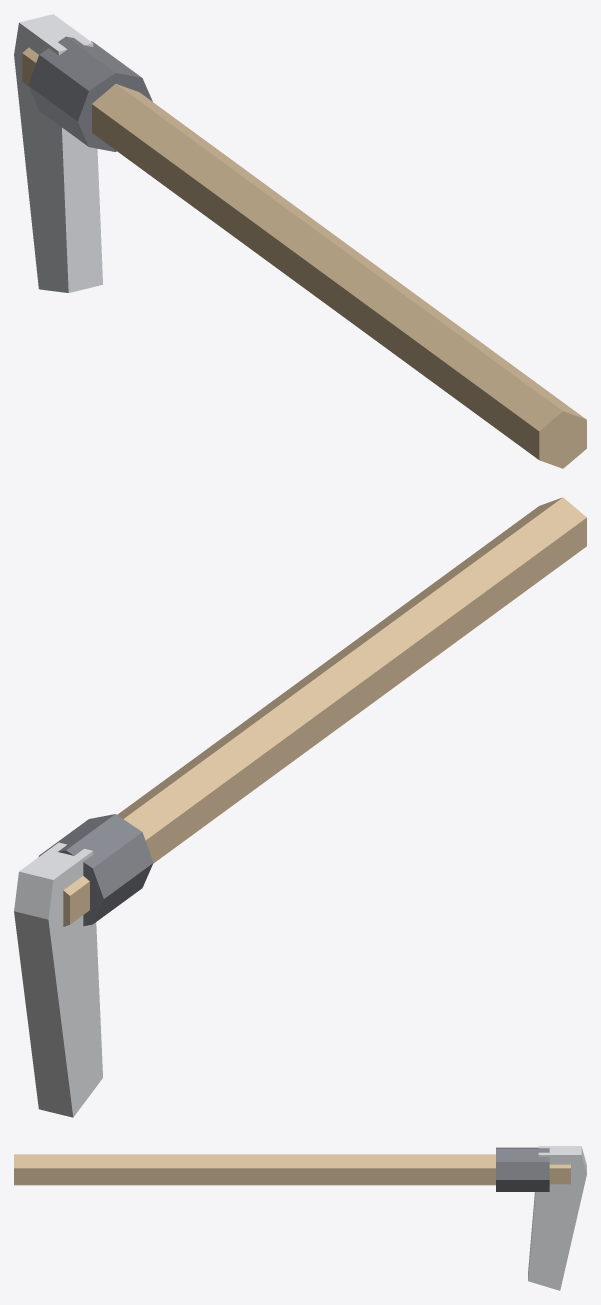
The model's file is iron_hoe_held.gltf.
The picture shows the model from 3 angles, top to bottom: view 1: azimuth 30°, elevation 25°; view 2: azimuth 150°, elevation 25°; view 3: azimuth 270°, elevation 25°; orthographic projection. The views are drawn at different scales.
Visible parts, largest first — view 1: furnace_iron_hoe_held; view 2: furnace_iron_hoe_held; view 3: furnace_iron_hoe_held.
Part boxes in pixels (x1,y1,x2,y2): furnace_iron_hoe_held: [14, 14, 586, 468]; furnace_iron_hoe_held: [14, 497, 586, 1117]; furnace_iron_hoe_held: [14, 1146, 586, 1290].
Size of the model in its own units: 0.044 by 0.142 by 0.535.
